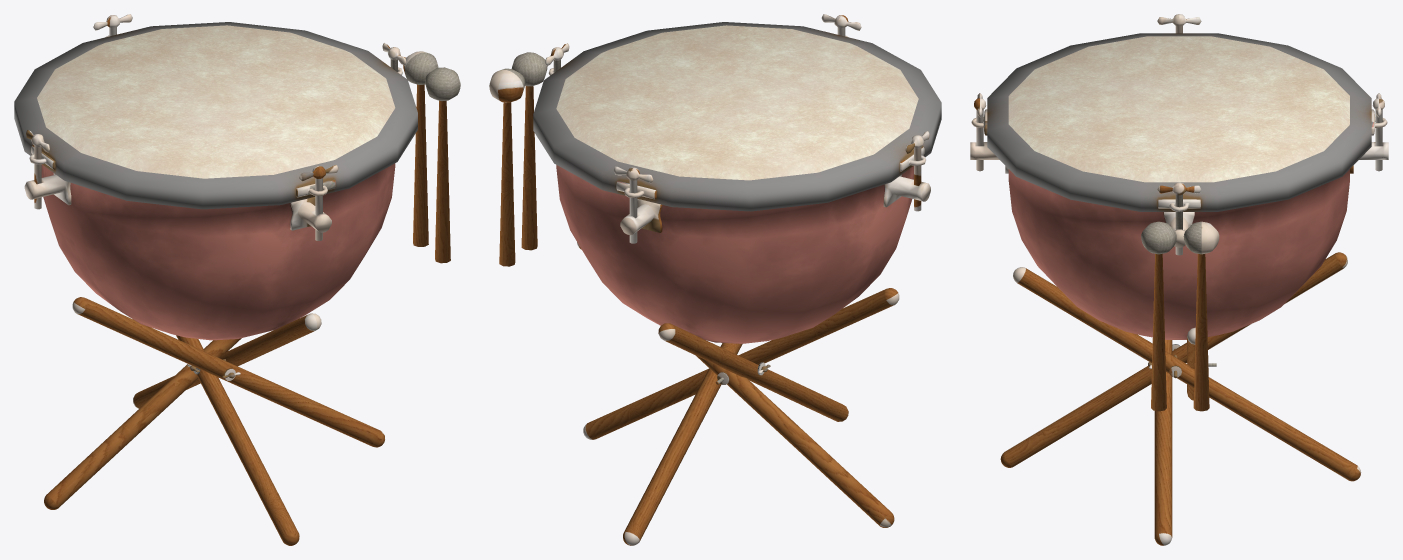
File: Timpani.fbx
3 views of the same model, side by side, from view 1: azimuth 30°, elevation 25°; view 2: azimuth 150°, elevation 25°; view 3: azimuth 270°, elevation 25° (orthographic). The views are drawn at different scales.
Visible parts, largest first — view 1: Main_low.002, Leg_01_low.001, Leg_03_low.001, Leg_04_low.001, Drumstick_02_low.001, Drumstick_01_low.001, Leg_02_low.001, Bolt_02_low.001, Bolt_01_low.001; view 2: Main_low.002, Leg_01_low.001, Leg_03_low.001, Leg_04_low.001, Leg_02_low.001, Drumstick_01_low.001, Drumstick_02_low.001, Bolt_03_low.001, Bolt_01_low.001; view 3: Main_low.002, Leg_02_low.001, Leg_04_low.001, Leg_01_low.001, Drumstick_01_low.001, Drumstick_02_low.001, Bolt_04_low.001, Bolt_03_low.001, Bolt_02_low.001.
Boxes of the visible parts, left/top/right/bottom form: Main_low.002: left=14, top=22, right=417, bottom=340; Leg_01_low.001: left=72, top=297, right=384, bottom=447; Leg_03_low.001: left=44, top=338, right=241, bottom=509; Leg_04_low.001: left=176, top=335, right=299, bottom=545; Drumstick_02_low.001: left=425, top=67, right=460, bottom=263; Drumstick_01_low.001: left=403, top=51, right=438, bottom=246; Leg_02_low.001: left=133, top=313, right=321, bottom=408; Bolt_02_low.001: left=290, top=164, right=338, bottom=240; Bolt_01_low.001: left=24, top=130, right=71, bottom=209; Main_low.002: left=533, top=22, right=941, bottom=343; Leg_01_low.001: left=583, top=288, right=899, bottom=439; Leg_03_low.001: left=577, top=242, right=894, bottom=527; Leg_04_low.001: left=658, top=323, right=848, bottom=421; Leg_02_low.001: left=623, top=343, right=742, bottom=545; Drumstick_01_low.001: left=489, top=68, right=525, bottom=266; Drumstick_02_low.001: left=511, top=52, right=547, bottom=250; Bolt_03_low.001: left=613, top=166, right=662, bottom=243; Bolt_01_low.001: left=883, top=131, right=930, bottom=211; Main_low.002: left=987, top=33, right=1371, bottom=339; Leg_02_low.001: left=1013, top=267, right=1361, bottom=481; Leg_04_low.001: left=1000, top=252, right=1347, bottom=467; Leg_01_low.001: left=1154, top=339, right=1172, bottom=545; Drumstick_01_low.001: left=1183, top=221, right=1219, bottom=411; Drumstick_02_low.001: left=1141, top=221, right=1176, bottom=411; Bolt_04_low.001: left=1157, top=182, right=1201, bottom=255; Bolt_03_low.001: left=1350, top=93, right=1388, bottom=173; Bolt_02_low.001: left=970, top=93, right=1008, bottom=173.
Size of the model in its own units: 82.7 by 72.92 by 73.81.
Materials: 1 (1 with a texture image).
